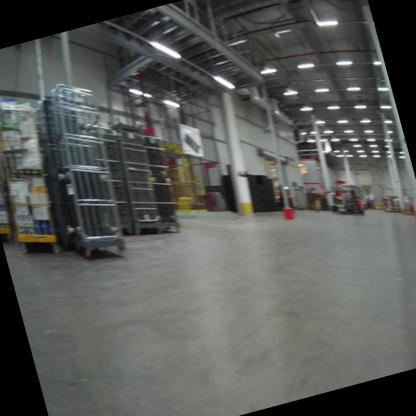pallet_truck: (326, 181, 368, 223)
